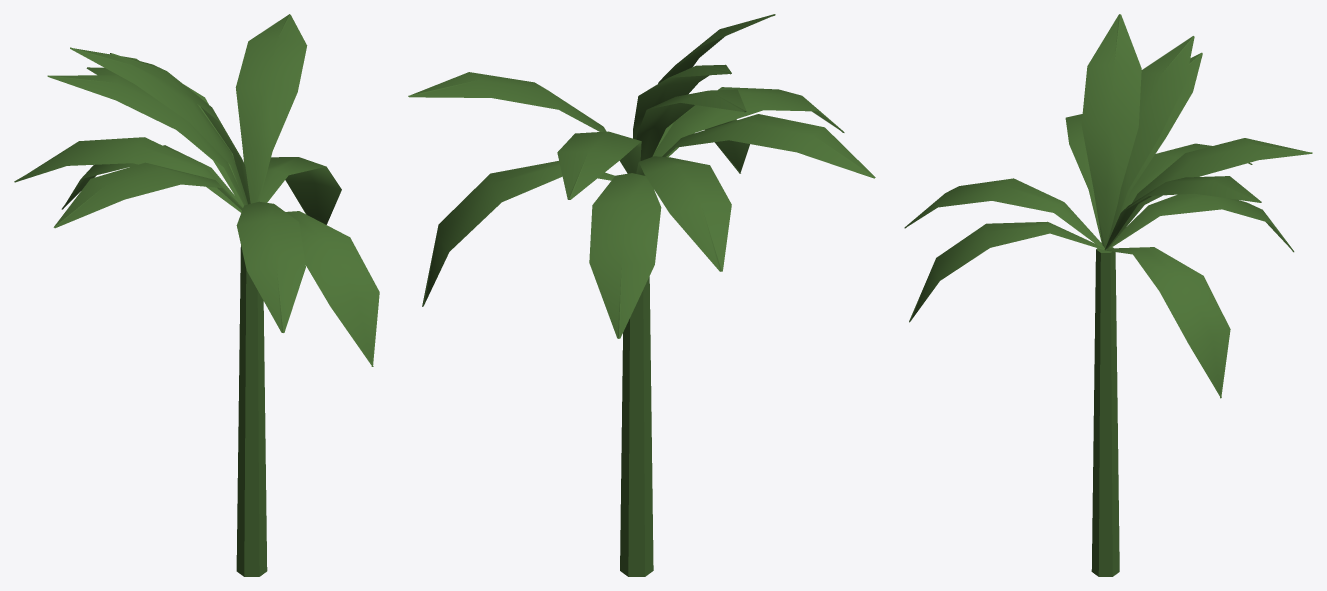
The model's file is banana_chuoi_su.mid.glb.
The picture shows the model from 3 angles, left to right: view 1: azimuth 30°, elevation 25°; view 2: azimuth 150°, elevation 25°; view 3: azimuth 270°, elevation 25°; orthographic projection. The views are drawn at different scales.
Visible parts, largest first — view 1: banana_chuoi_su; view 2: banana_chuoi_su; view 3: banana_chuoi_su.
Part boxes in pixels (x1,y1,x2,y2): banana_chuoi_su: (14,14,379,576); banana_chuoi_su: (408,14,875,576); banana_chuoi_su: (904,14,1312,576).
Bounding box in the file's own units: 2.85 × 4.33 × 3.21.
